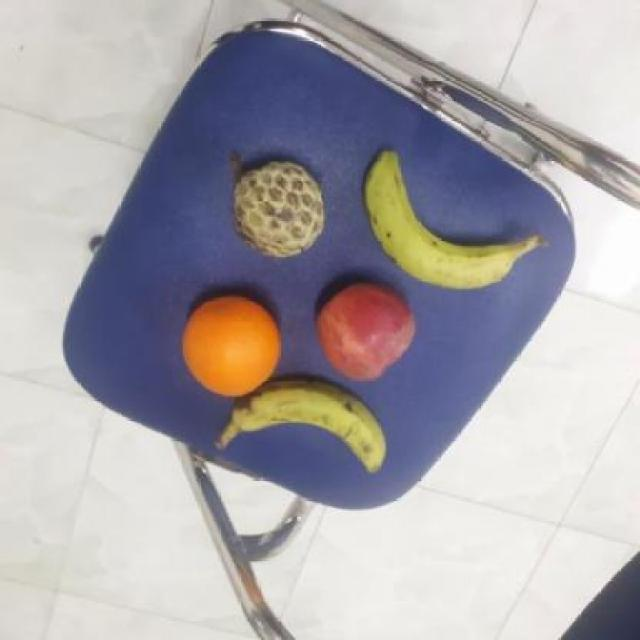apple: (310, 285, 419, 383)
banana: (362, 146, 518, 297), (222, 379, 393, 473)
oren: (178, 289, 280, 400)
sugar apple: (225, 154, 329, 264)
